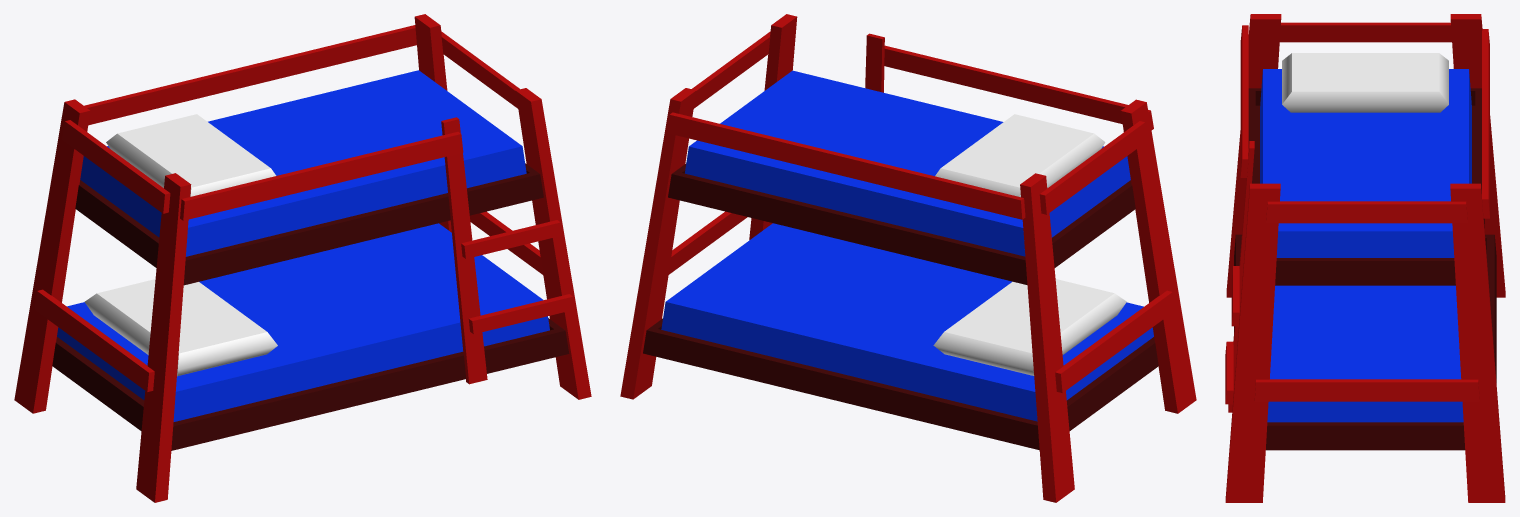
Rendered from House_ChildsRoom_BunkBed.FBX.
The picture shows the model from 3 angles, left to right: view 1: azimuth 30°, elevation 25°; view 2: azimuth 150°, elevation 25°; view 3: azimuth 270°, elevation 25°; orthographic projection.
Parts seen in each view (by area): view 1: House_ChildsRoom_BunkBed_matress2, House_ChildsRoom_BunkBed_matress1, House_ChildsRoom_BunkBed_frame00, House_ChildsRoom_BunkBed_frame05, House_ChildsRoom_BunkBed_frame03, House_ChildsRoom_BunkBed_pillow2, House_ChildsRoom_BunkBed_frame01, House_ChildsRoom_BunkBed_pillow1, House_ChildsRoom_BunkBed_frame13, House_ChildsRoom_BunkBed_frame07, House_ChildsRoom_BunkBed_frame04, House_ChildsRoom_BunkBed_frame06 (+7 smaller); view 2: House_ChildsRoom_BunkBed_matress2, House_ChildsRoom_BunkBed_matress1, House_ChildsRoom_BunkBed_frame00, House_ChildsRoom_BunkBed_frame05, House_ChildsRoom_BunkBed_frame01, House_ChildsRoom_BunkBed_pillow2, House_ChildsRoom_BunkBed_frame03, House_ChildsRoom_BunkBed_frame13, House_ChildsRoom_BunkBed_pillow1, House_ChildsRoom_BunkBed_frame11, House_ChildsRoom_BunkBed_frame04, House_ChildsRoom_BunkBed_frame02 (+5 smaller); view 3: House_ChildsRoom_BunkBed_matress1, House_ChildsRoom_BunkBed_matress2, House_ChildsRoom_BunkBed_frame07, House_ChildsRoom_BunkBed_frame11, House_ChildsRoom_BunkBed_pillow1, House_ChildsRoom_BunkBed_frame05, House_ChildsRoom_BunkBed_frame00, House_ChildsRoom_BunkBed_frame10, House_ChildsRoom_BunkBed_frame12, House_ChildsRoom_BunkBed_frame14, House_ChildsRoom_BunkBed_frame01, House_ChildsRoom_BunkBed_frame03 (+5 smaller).
Boxes of the visible parts, box(x1,y1,x2,y2) form: House_ChildsRoom_BunkBed_matress2: box(57, 223, 549, 421); House_ChildsRoom_BunkBed_matress1: box(80, 70, 526, 256); House_ChildsRoom_BunkBed_frame00: box(52, 318, 569, 450); House_ChildsRoom_BunkBed_frame05: box(75, 163, 543, 285); House_ChildsRoom_BunkBed_frame03: box(136, 173, 191, 502); House_ChildsRoom_BunkBed_pillow2: box(84, 279, 277, 376); House_ChildsRoom_BunkBed_frame01: box(14, 99, 90, 413); House_ChildsRoom_BunkBed_pillow1: box(106, 114, 276, 196); House_ChildsRoom_BunkBed_frame13: box(84, 25, 416, 125); House_ChildsRoom_BunkBed_frame07: box(515, 88, 591, 399); House_ChildsRoom_BunkBed_frame04: box(180, 132, 463, 220); House_ChildsRoom_BunkBed_frame06: box(441, 117, 487, 384); House_ChildsRoom_BunkBed_matress2: box(661, 223, 1153, 421); House_ChildsRoom_BunkBed_matress1: box(685, 70, 1130, 256); House_ChildsRoom_BunkBed_frame00: box(643, 318, 1158, 450); House_ChildsRoom_BunkBed_frame05: box(668, 163, 1135, 284); House_ChildsRoom_BunkBed_frame01: box(1020, 173, 1074, 502); House_ChildsRoom_BunkBed_pillow2: box(933, 279, 1126, 375); House_ChildsRoom_BunkBed_frame03: box(1120, 99, 1196, 413); House_ChildsRoom_BunkBed_frame13: box(666, 112, 1025, 219); House_ChildsRoom_BunkBed_pillow1: box(935, 114, 1105, 197); House_ChildsRoom_BunkBed_frame11: box(620, 88, 696, 399); House_ChildsRoom_BunkBed_frame04: box(884, 45, 1153, 130); House_ChildsRoom_BunkBed_frame02: box(1055, 290, 1175, 392); House_ChildsRoom_BunkBed_matress1: box(1260, 69, 1471, 257); House_ChildsRoom_BunkBed_matress2: box(1267, 285, 1463, 422); House_ChildsRoom_BunkBed_frame07: box(1225, 183, 1280, 502); House_ChildsRoom_BunkBed_frame11: box(1450, 183, 1505, 502); House_ChildsRoom_BunkBed_pillow1: box(1282, 53, 1448, 112); House_ChildsRoom_BunkBed_frame05: box(1248, 88, 1484, 285); House_ChildsRoom_BunkBed_frame00: box(1234, 234, 1496, 450); House_ChildsRoom_BunkBed_frame10: box(1254, 379, 1479, 401); House_ChildsRoom_BunkBed_frame12: box(1266, 201, 1467, 223); House_ChildsRoom_BunkBed_frame14: box(1279, 22, 1451, 42); House_ChildsRoom_BunkBed_frame01: box(1450, 14, 1505, 297); House_ChildsRoom_BunkBed_frame03: box(1226, 14, 1281, 297).
Bounding box in the file's own units: 356 × 233 × 199.
